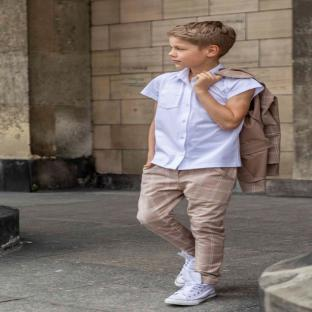Human: (137, 21, 264, 305)
